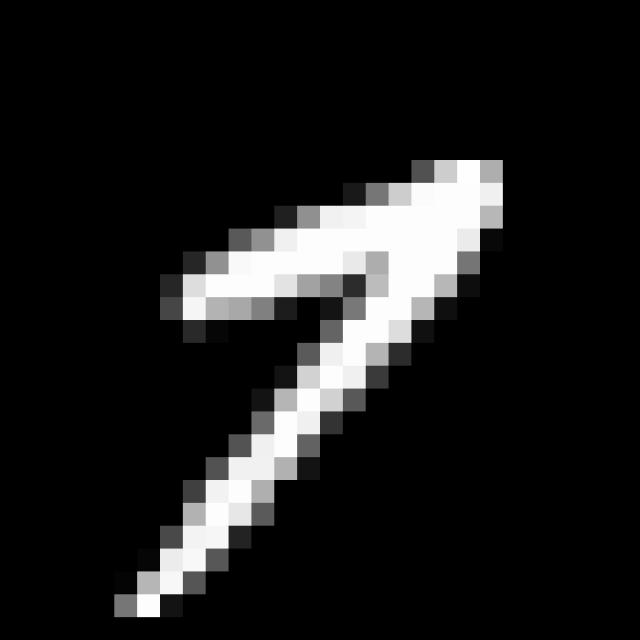seven -7-: (126, 148, 510, 632)
